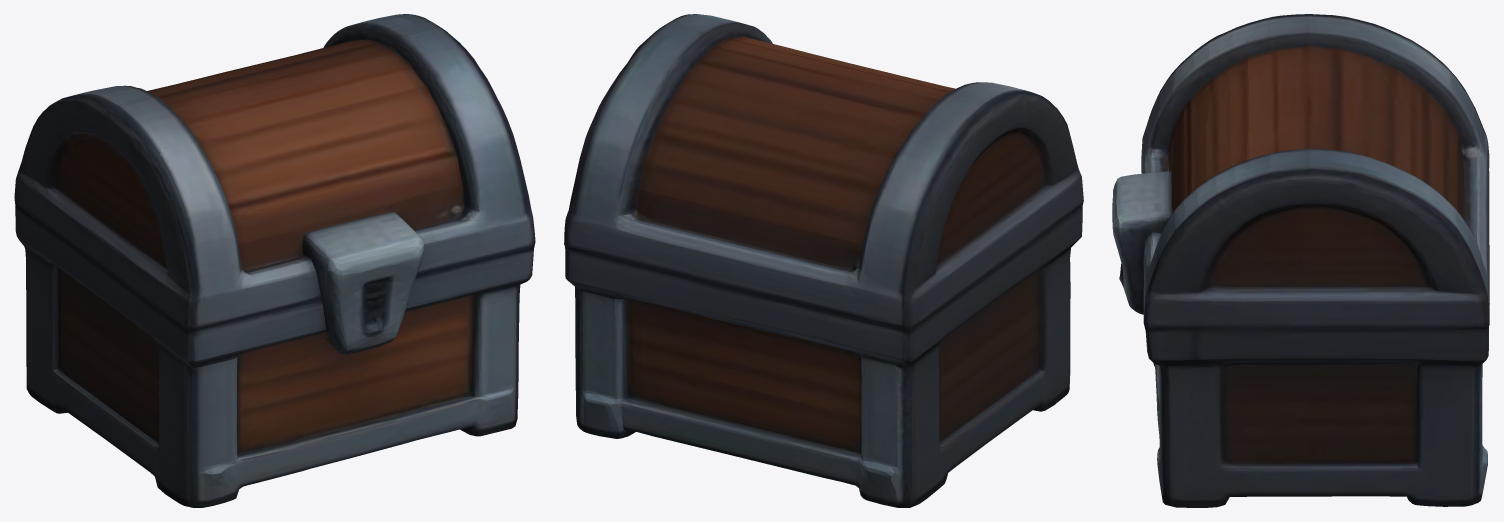
Rendered from treasure_chest.glb.
The picture shows the model from 3 angles, left to right: view 1: azimuth 30°, elevation 25°; view 2: azimuth 150°, elevation 25°; view 3: azimuth 270°, elevation 25°; orthographic projection. The views are drawn at different scales.
Visible parts, largest first — view 1: world; view 2: world; view 3: world.
Boxes of the visible parts, x1,y1,x2,y2 form: world: (14, 14, 535, 507); world: (564, 14, 1083, 507); world: (1112, 14, 1489, 507).
Size of the model in its own units: 0.4865 by 0.4601 by 0.4662.
1 material, 1 textured.
